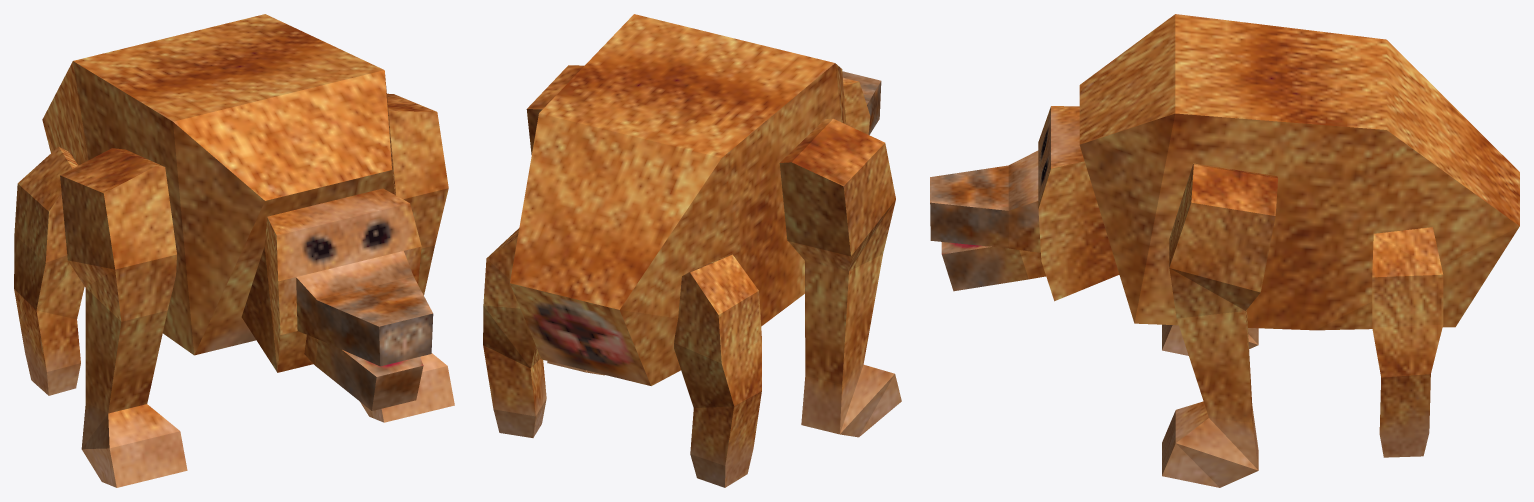
File: conba.obj
3 renders of one model, left to right at view 1: azimuth 30°, elevation 25°; view 2: azimuth 150°, elevation 25°; view 3: azimuth 270°, elevation 25°, orthographic. The views are drawn at different scales.
Visible parts, largest first — view 1: Body, ArmRight, Head, LegRight, ArmLeft, Mouth; view 2: Body, ArmRight, LegRight, LegLeft, Head, ArmLeft; view 3: Body, ArmLeft, Head, LegLeft, Mouth, ArmRight.
Boxes of the visible parts, x1,y1,x2,y2 form: Body: (42, 14, 395, 355); ArmRight: (60, 148, 187, 487); Head: (241, 188, 433, 372); LegRight: (14, 146, 84, 395); ArmLeft: (360, 93, 454, 422); Mouth: (304, 335, 423, 410); Body: (510, 14, 845, 385); ArmRight: (779, 118, 901, 437); LegRight: (674, 254, 761, 487); LegLeft: (483, 228, 546, 437); Head: (842, 71, 881, 135); ArmLeft: (526, 65, 604, 375); Body: (1079, 14, 1519, 330); ArmLeft: (1162, 163, 1277, 487); Head: (930, 106, 1119, 301); LegLeft: (1372, 227, 1443, 457); Mouth: (941, 242, 1045, 291); ArmRight: (1162, 324, 1258, 355).
Size of the model in its own units: 1.05 by 1.09 by 1.65.
